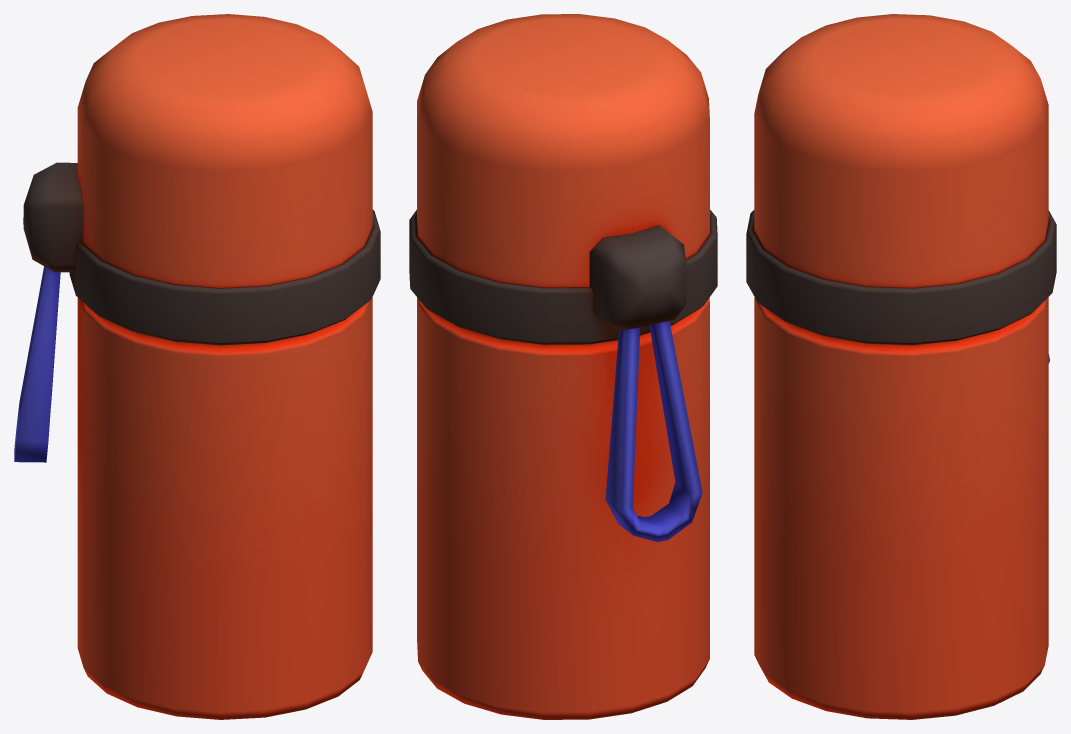
Rendered from binhgiunhiet.fbx.
3 views of the same model, side by side, from view 1: azimuth 30°, elevation 25°; view 2: azimuth 150°, elevation 25°; view 3: azimuth 270°, elevation 25° (orthographic).
Parts seen in each view (by area): view 1: binh_giu_nhiet; view 2: binh_giu_nhiet; view 3: binh_giu_nhiet.
Boxes of the visible parts, x1=… form: binh_giu_nhiet: x1=14, y1=14, x2=380, y2=719; binh_giu_nhiet: x1=409, y1=14, x2=717, y2=719; binh_giu_nhiet: x1=746, y1=14, x2=1056, y2=719.
Size of the model in its own units: 59.43 by 112 by 51.81.
1 material, 1 textured.
